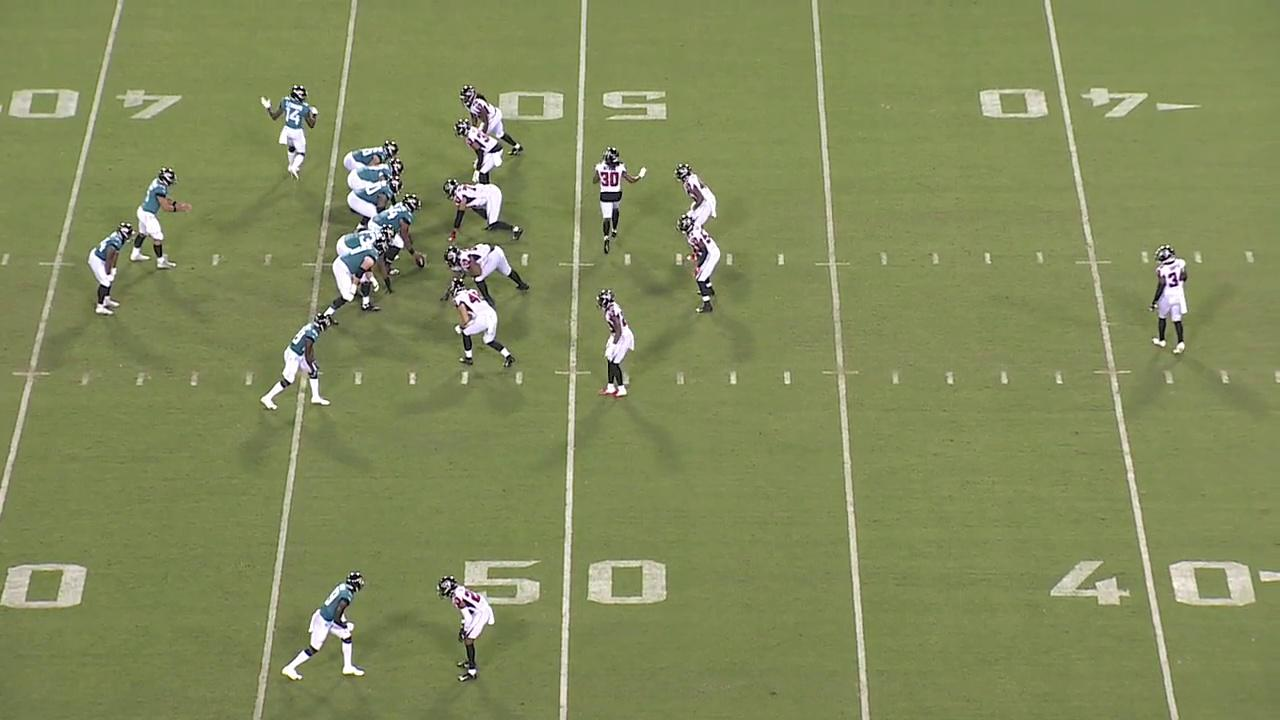player: (280, 574, 368, 678), (258, 310, 335, 413), (444, 276, 519, 373), (256, 78, 323, 184), (129, 165, 194, 274), (587, 146, 648, 256), (442, 570, 498, 686), (363, 191, 434, 280), (439, 241, 533, 308), (441, 176, 527, 245), (322, 237, 388, 326), (589, 288, 640, 399), (456, 82, 524, 159), (1147, 244, 1194, 354), (86, 219, 138, 317), (674, 213, 723, 316), (672, 162, 720, 263), (335, 223, 399, 297), (342, 175, 406, 233), (453, 117, 506, 185), (342, 139, 401, 174), (346, 157, 406, 191)
